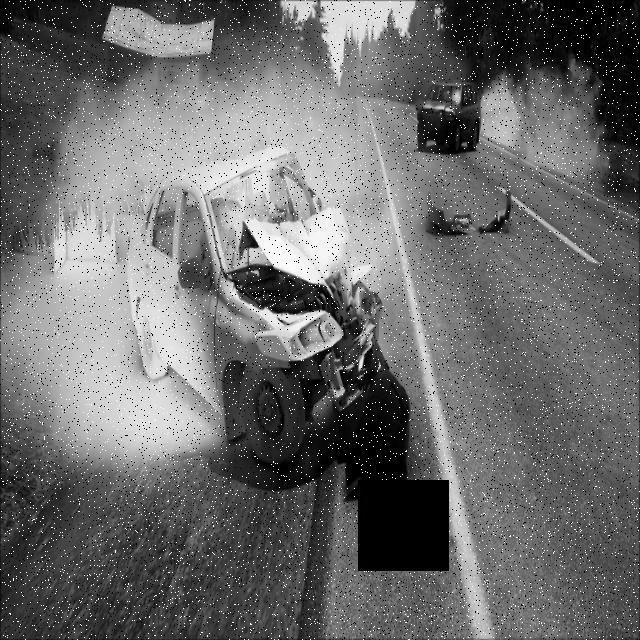accident: (121, 137, 390, 487)
vehicle: (415, 69, 479, 161)
